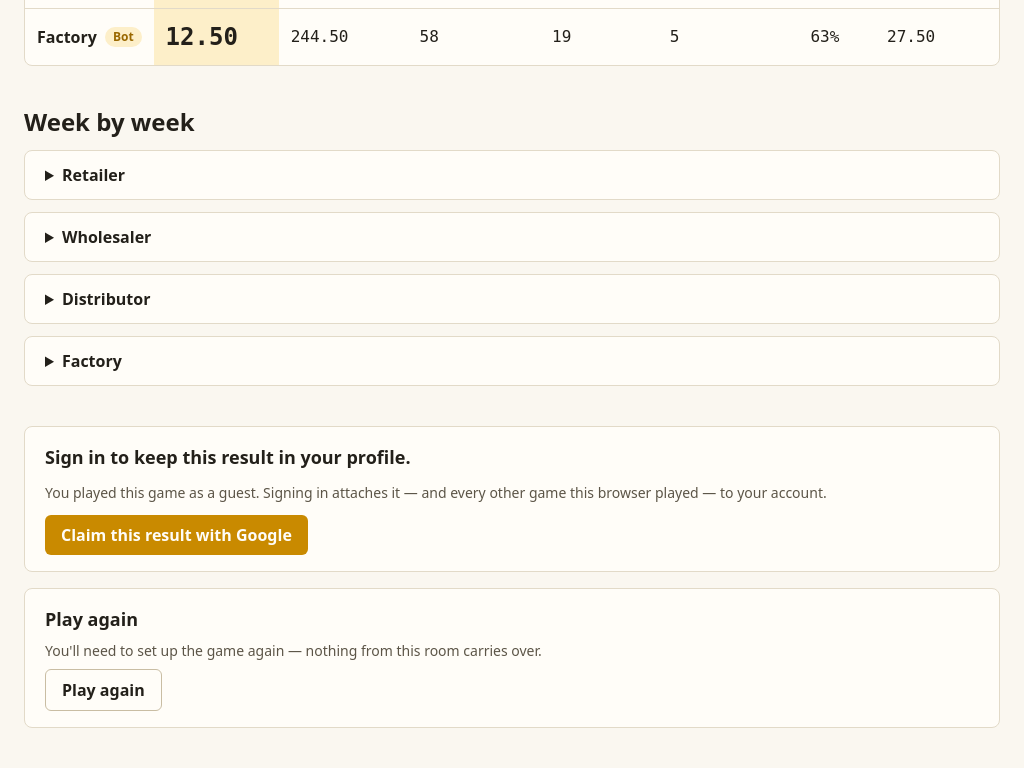
Test: CRITERION 15 and FAILURE MODE 6: claiming posts the guest id, and nothing else does › shows the claimed count and a link to /profile
The image size is (1024, 768).
(page scrolled)
Click the button "Claim this result with Google": (176, 535) [45, 515, 308, 555]
(page scrolled)
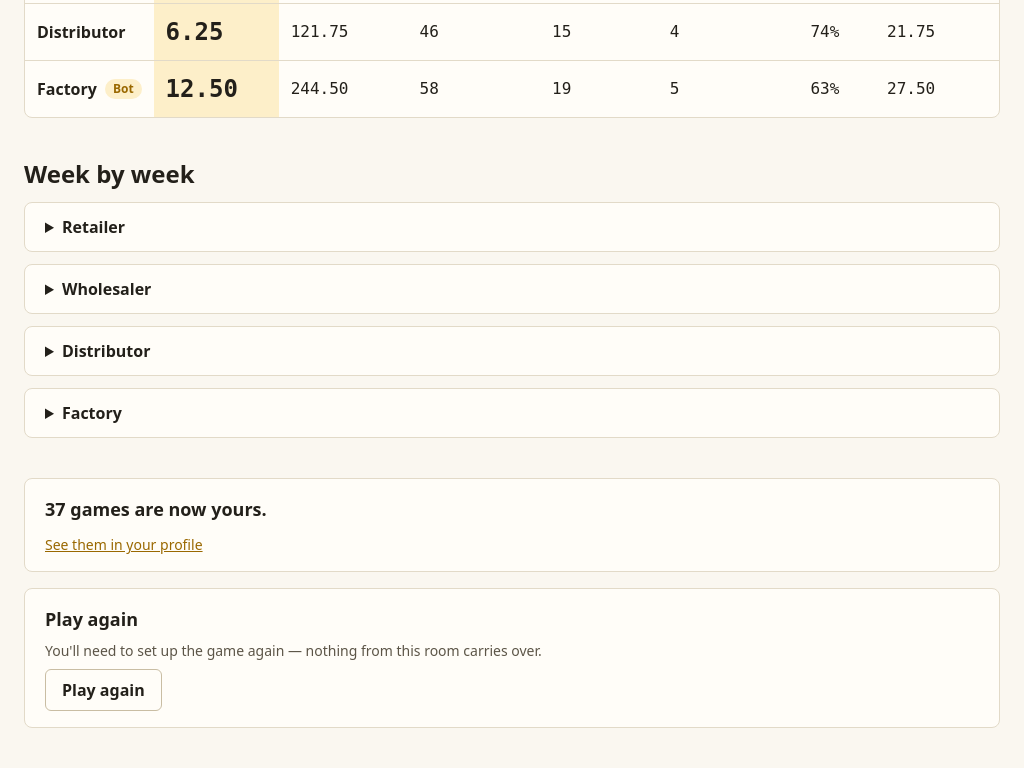
Now the link "See them in your profile" is shown, box [45, 535, 203, 554]
